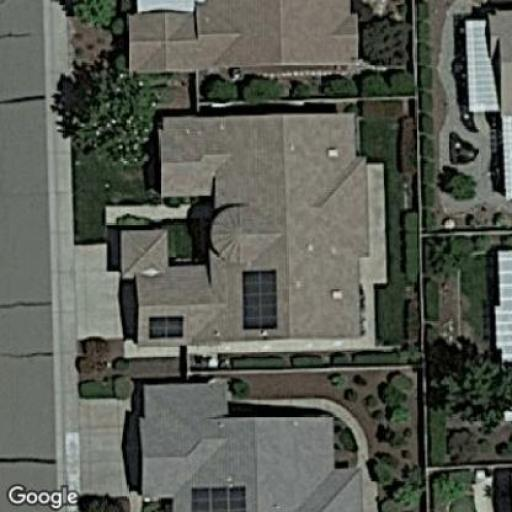solar-panel: (239, 263, 283, 331), (189, 481, 250, 511), (144, 314, 192, 340)
